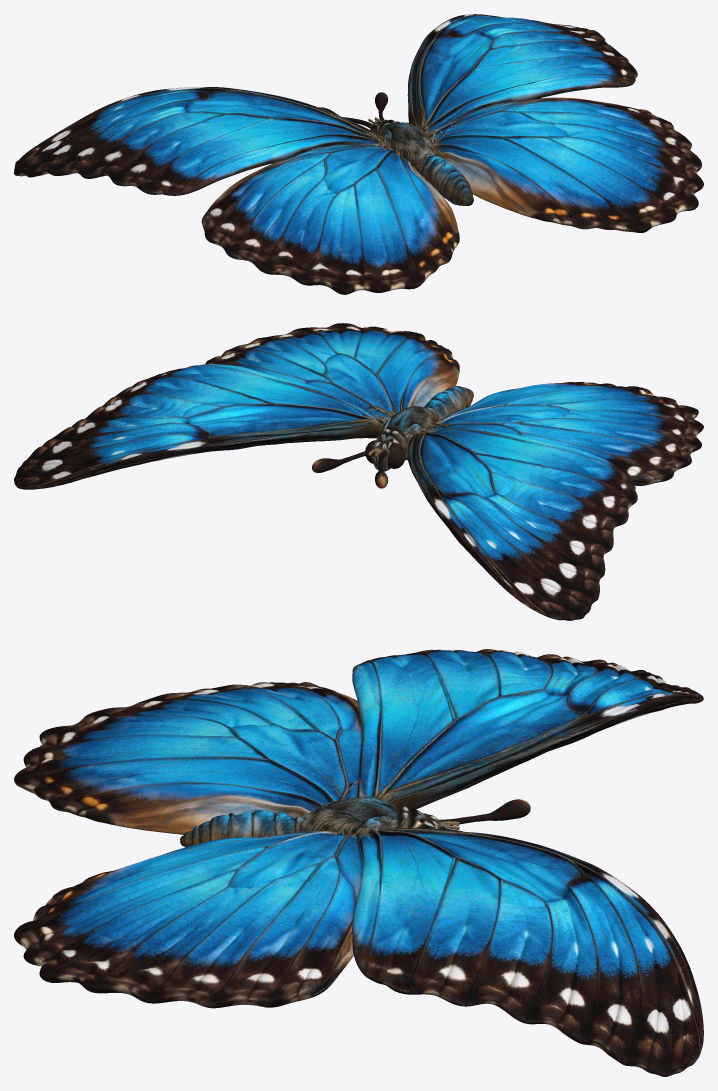
File: butterfly-light.glb
3 views of the same model, one above another, from view 1: azimuth 30°, elevation 25°; view 2: azimuth 150°, elevation 25°; view 3: azimuth 270°, elevation 25° (orthographic). The views are drawn at different scales.
Visible parts, largest first — view 1: butterfly; view 2: butterfly; view 3: butterfly.
Part boxes in pixels (bbox=[...]): butterfly: bbox=[14, 14, 703, 294]; butterfly: bbox=[14, 323, 703, 620]; butterfly: bbox=[14, 649, 703, 1076].
Size of the model in its own units: 0.14 by 0.0164 by 0.1041.
Materials: 1 (1 with a texture image).
